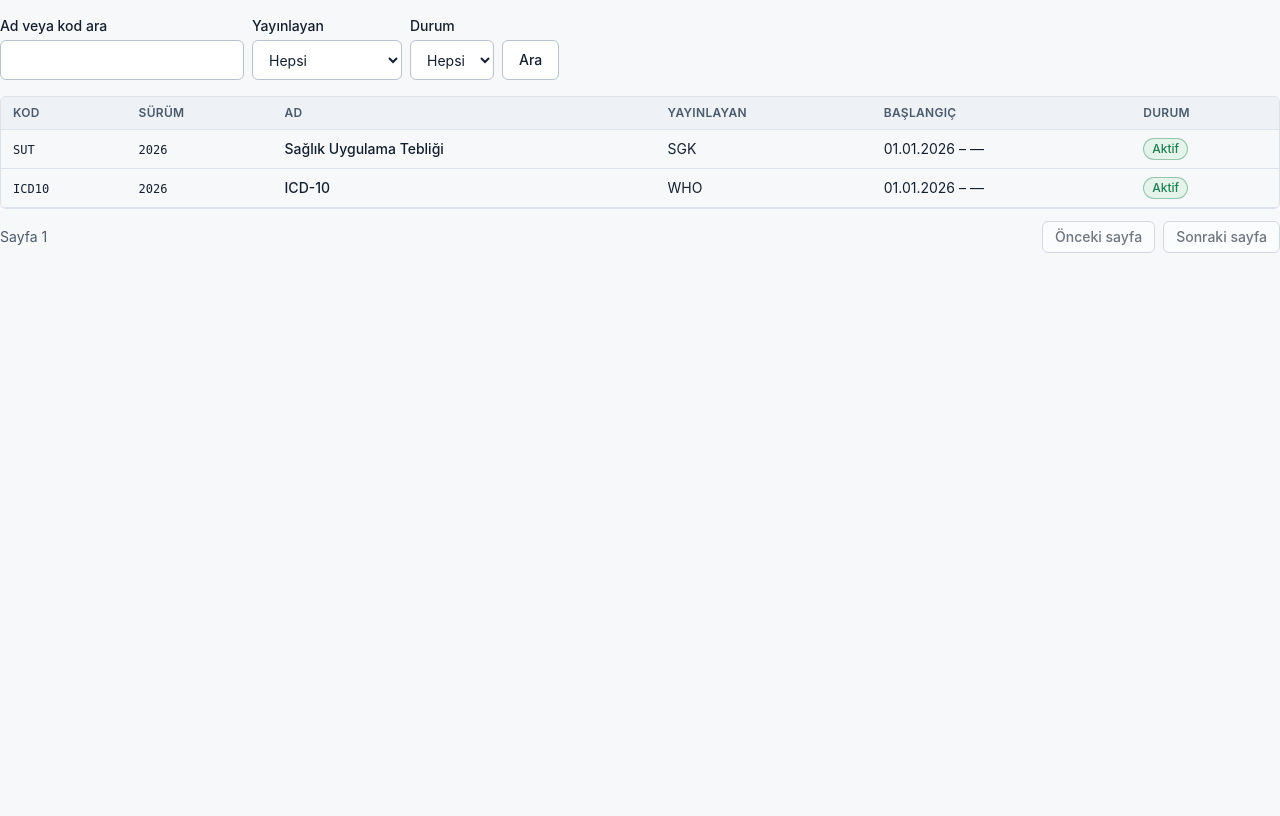
Test case: code systems › lists the systems and opens one
Expected: the text "SUT" is shown, top-left (13, 143), bottom-right (35, 157)
What coordinates should you click on to do the following:
click the link "Sağlık Uygulama Tebliği"
I would click on:
 (364, 148)
Its box is top-left (284, 140), bottom-right (444, 157).
(page scrolled)
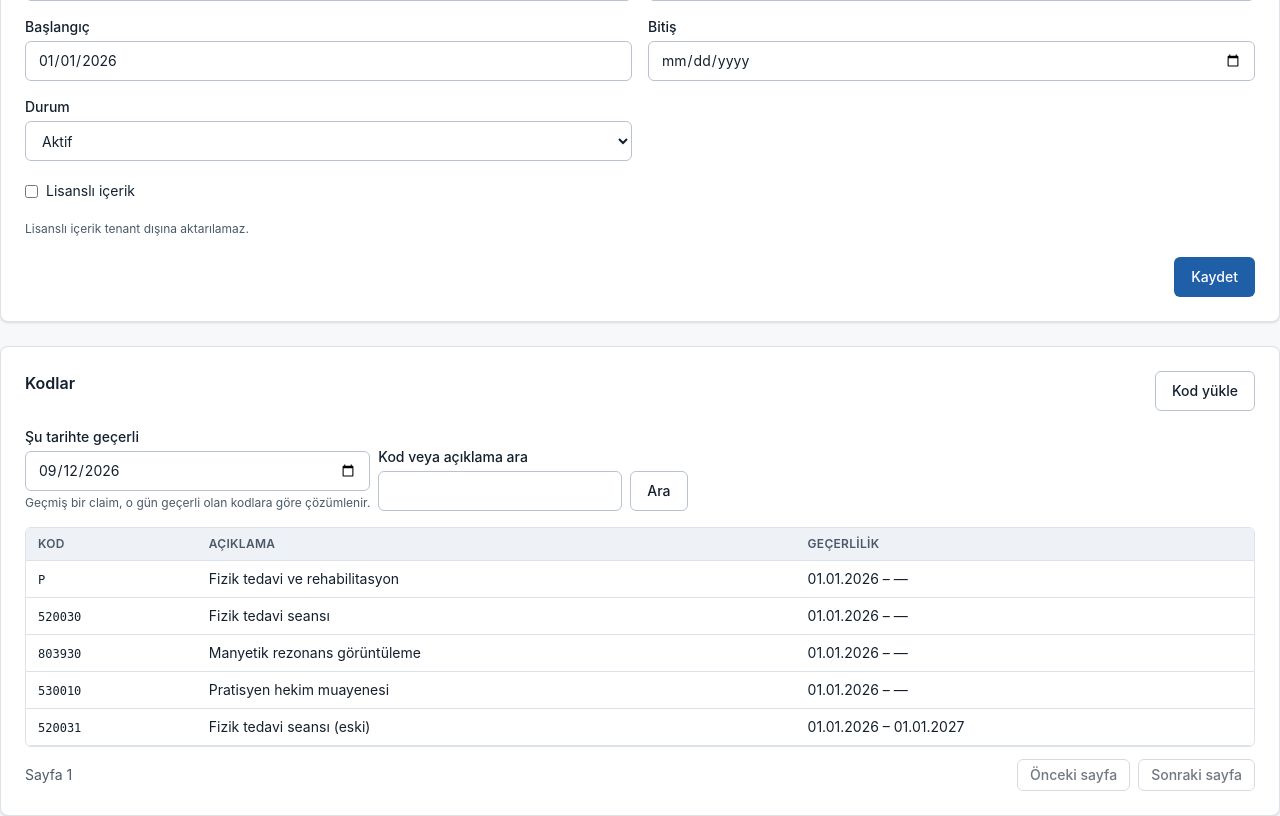
Expected: the table with test id "code-value-table" is shown, top-left (26, 528), bottom-right (1254, 746)
